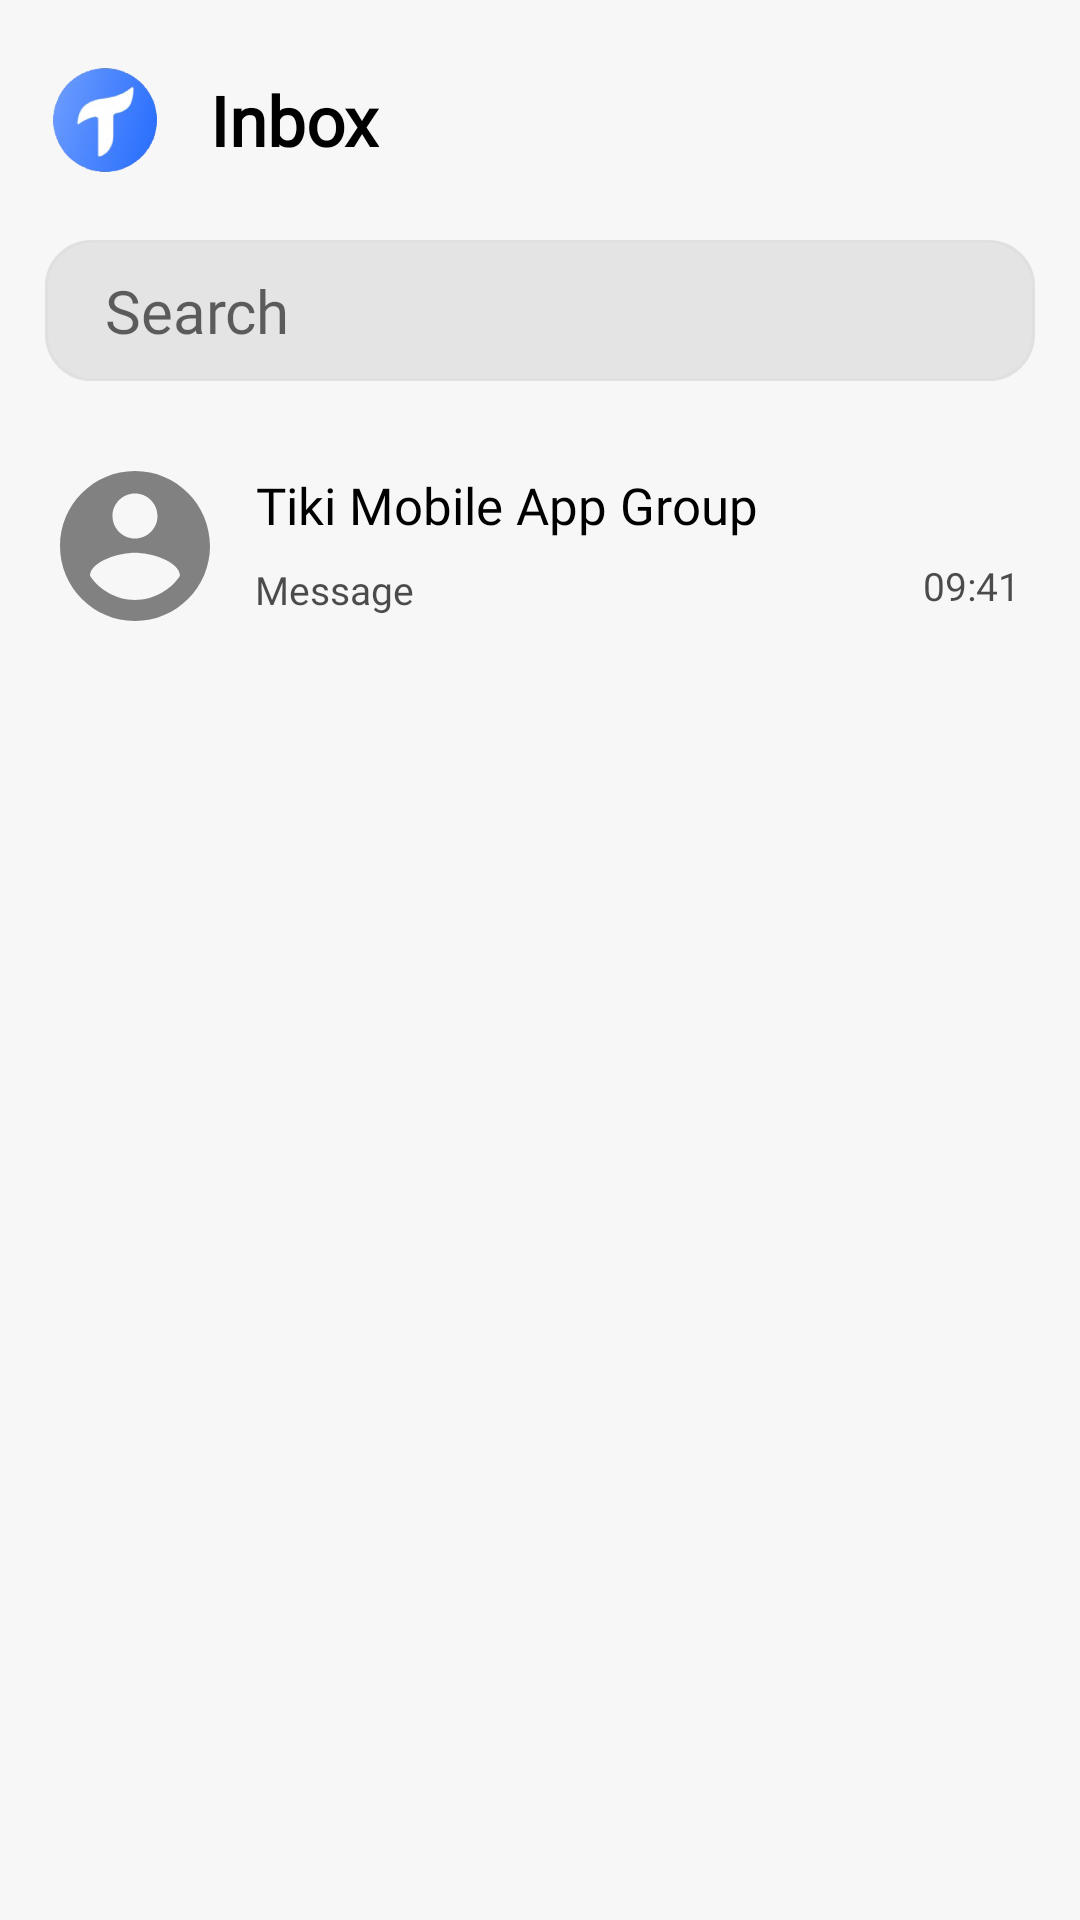

Named icons in this screenshot (1080×1920) and their bounding boxes, [x1=x1, y1=y1, x2=x2, y2=y2]:
profile pic: [x1=60, y1=471, x2=210, y2=621]
